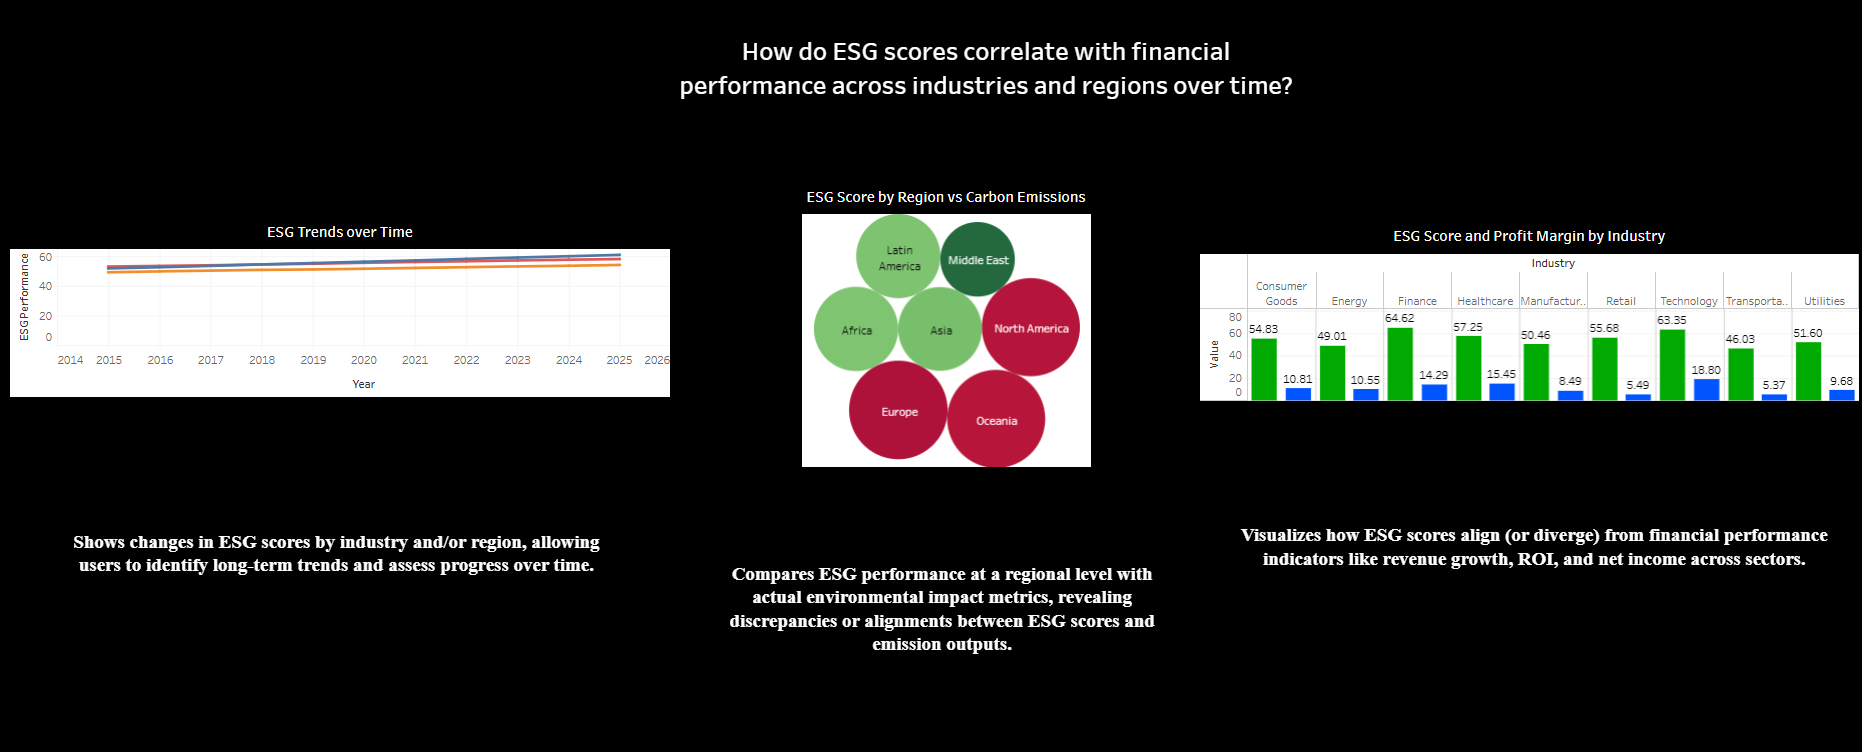

The page's visual inventory and layout, read from the dashboard file:
{"tool":"tableau","page":{"name":"esg","canvas":[1000,1000],"units":"permille","ordinal":0},"visuals":[{"type":"text","box":[363.4,35.1,332.9,129.7]},{"type":"worksheet","title":"q3","mark":"Circle","box":[431.8,244.2,153.3,369.2]},{"type":"worksheet","title":"q2","mark":"Automatic","cols":["year"],"box":[11.1,289.7,351.1,233.6]},{"type":"worksheet","title":"q1","mark":"Automatic","cols":["industry"],"box":[643.1,295.6,351.1,233.6]},{"type":"text","box":[654.8,655.4,332.9,121.5]},{"type":"text","box":[386.2,658.9,240.5,274.5]},{"type":"text","box":[42.1,660.1,285,128.5]}]}

Visuals, with their boxes on the dashboard's canvas, which has no fixed pixel size, in thousandths of its width and height (x1, y1, x2, y2). These are canvas units, not pixel positions in the 1862x752 screenshot, which may show the page scaled, cropped or inside an application window:
text: {"x1": 363, "y1": 35, "x2": 696, "y2": 165}
"q3" worksheet (Circle marks): {"x1": 432, "y1": 244, "x2": 585, "y2": 613}
"q2" worksheet: {"x1": 11, "y1": 290, "x2": 362, "y2": 523}
"q1" worksheet: {"x1": 643, "y1": 296, "x2": 994, "y2": 529}
text: {"x1": 655, "y1": 655, "x2": 988, "y2": 777}
text: {"x1": 386, "y1": 659, "x2": 627, "y2": 933}
text: {"x1": 42, "y1": 660, "x2": 327, "y2": 789}
